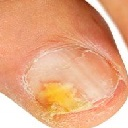Nail Fungal Infection: (32, 79, 87, 120)
